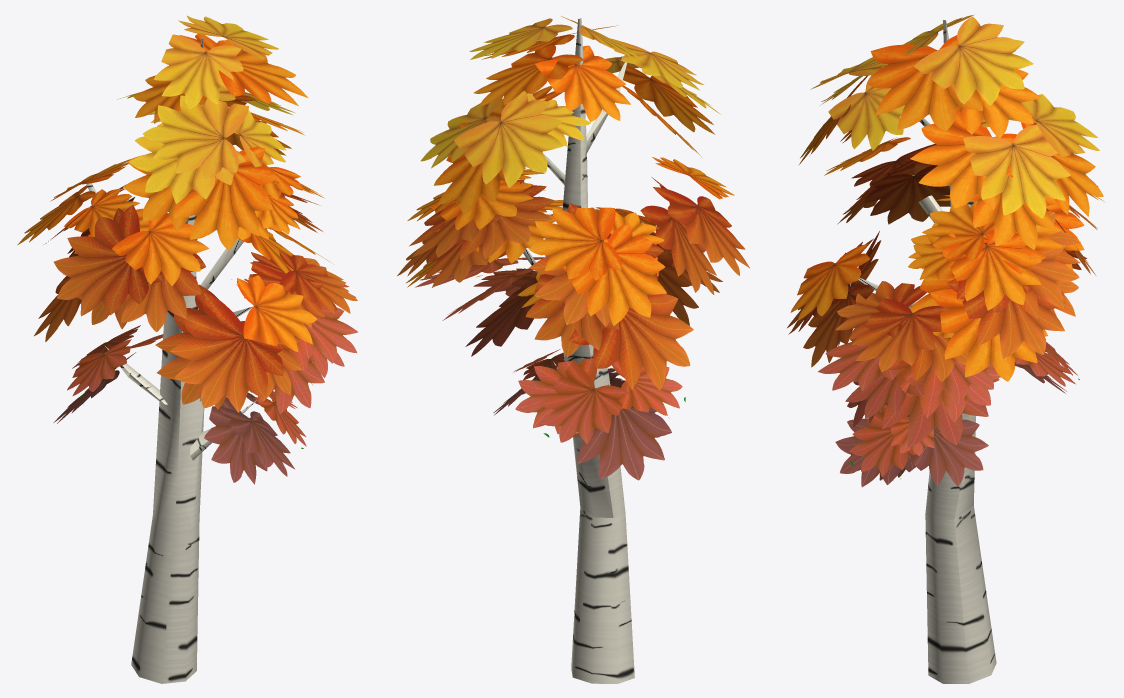
The model's file is VEG0210006.fbx.
3 views of the same model, side by side, from view 1: azimuth 30°, elevation 25°; view 2: azimuth 150°, elevation 25°; view 3: azimuth 270°, elevation 25° (orthographic). The views are drawn at different scales.
Visible parts, largest first — view 1: smVEG0210006; view 2: smVEG0210006; view 3: smVEG0210006.
Boxes of the visible parts, <box> form: smVEG0210006: <box>17,15,357,683</box>; smVEG0210006: <box>397,16,749,683</box>; smVEG0210006: <box>787,14,1104,683</box>.
Bounding box in the file's own units: 259 × 510 × 226.
Materials: 2 (2 with a texture image).
